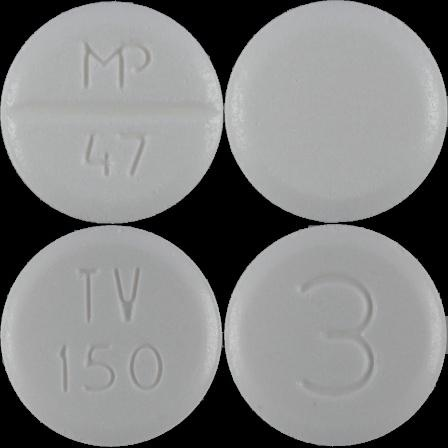68788-0255: (0, 0, 224, 224)
